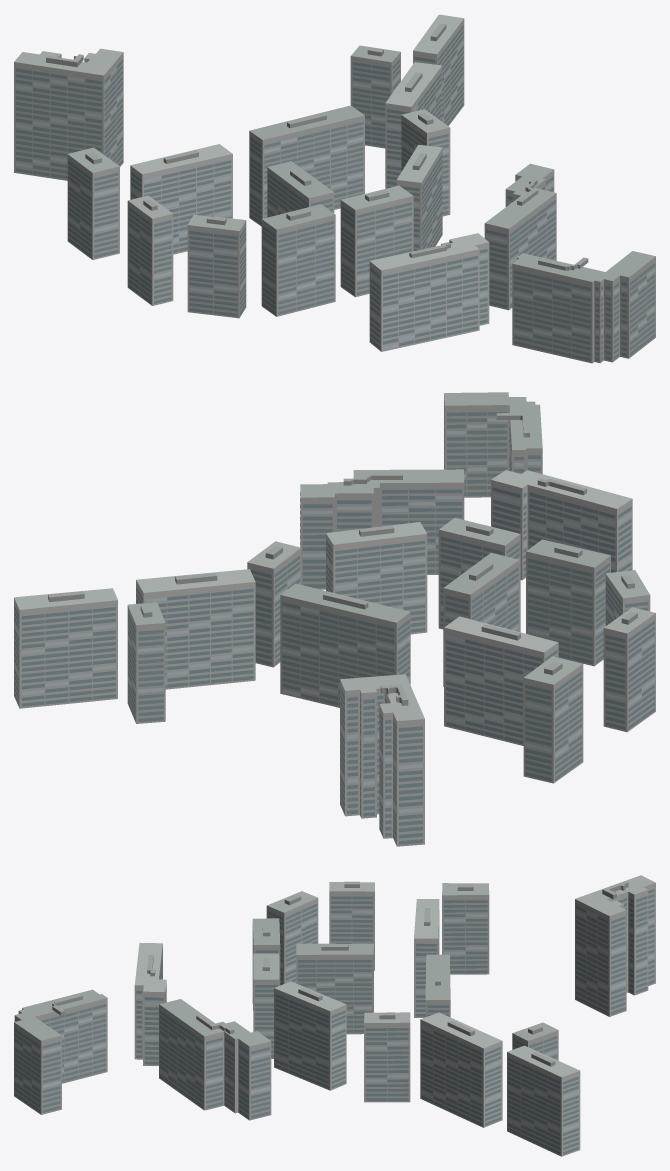
Rendered from apt-a13302206.glb.
3 renders of one model, top to bottom at view 1: azimuth 30°, elevation 25°; view 2: azimuth 150°, elevation 25°; view 3: azimuth 270°, elevation 25°, orthographic. The views are drawn at different scales.
Parts seen in each view (by area): view 1: apt-a13302206; view 2: apt-a13302206; view 3: apt-a13302206.
Part boxes in pixels (x1,y1,x2,y2): apt-a13302206: (14, 14, 655, 363); apt-a13302206: (14, 392, 655, 846); apt-a13302206: (14, 875, 655, 1156).
Size of the model in its own units: 227 by 57 by 315.
